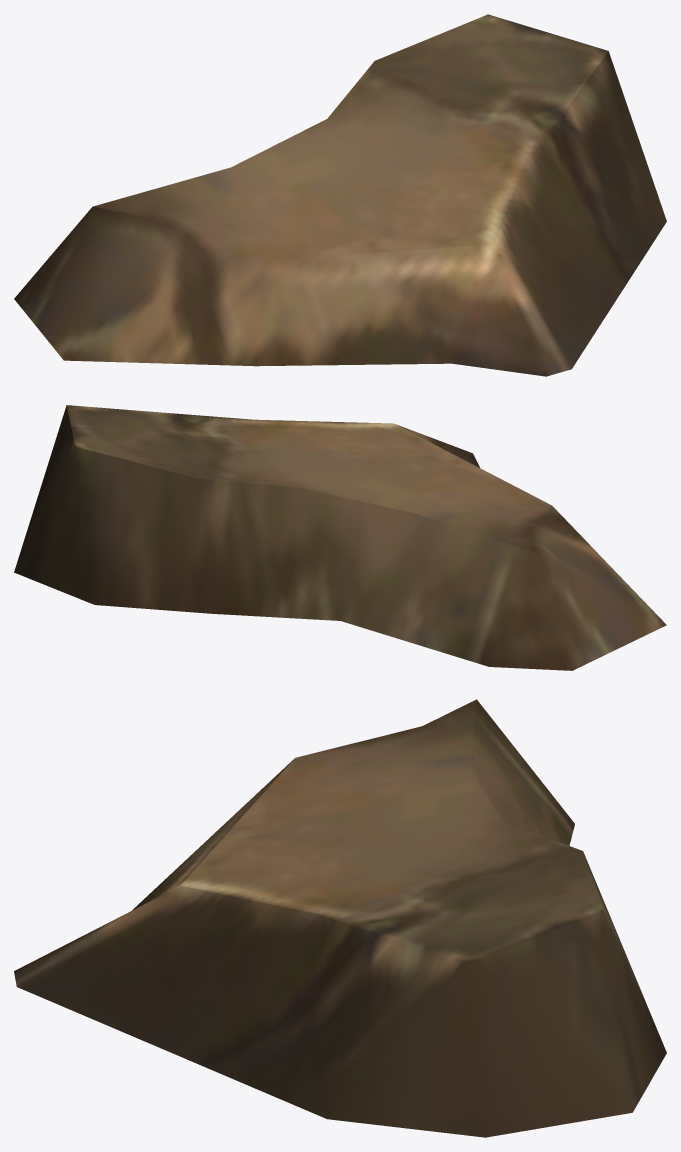
The model's file is D_shikuai003.fbx.
The picture shows the model from 3 angles, top to bottom: view 1: azimuth 30°, elevation 25°; view 2: azimuth 150°, elevation 25°; view 3: azimuth 270°, elevation 25°; orthographic projection. The views are drawn at different scales.
Visible parts, largest first — view 1: D_shikuai003; view 2: D_shikuai003; view 3: D_shikuai003.
Boxes of the visible parts, box(x1,y1,x2,y2) form: D_shikuai003: box(14, 14, 666, 376); D_shikuai003: box(14, 405, 666, 670); D_shikuai003: box(14, 699, 666, 1137).
Size of the model in its own units: 17.64 by 3.76 by 13.1.
